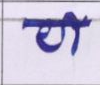i_matra: (64, 11, 80, 54)
